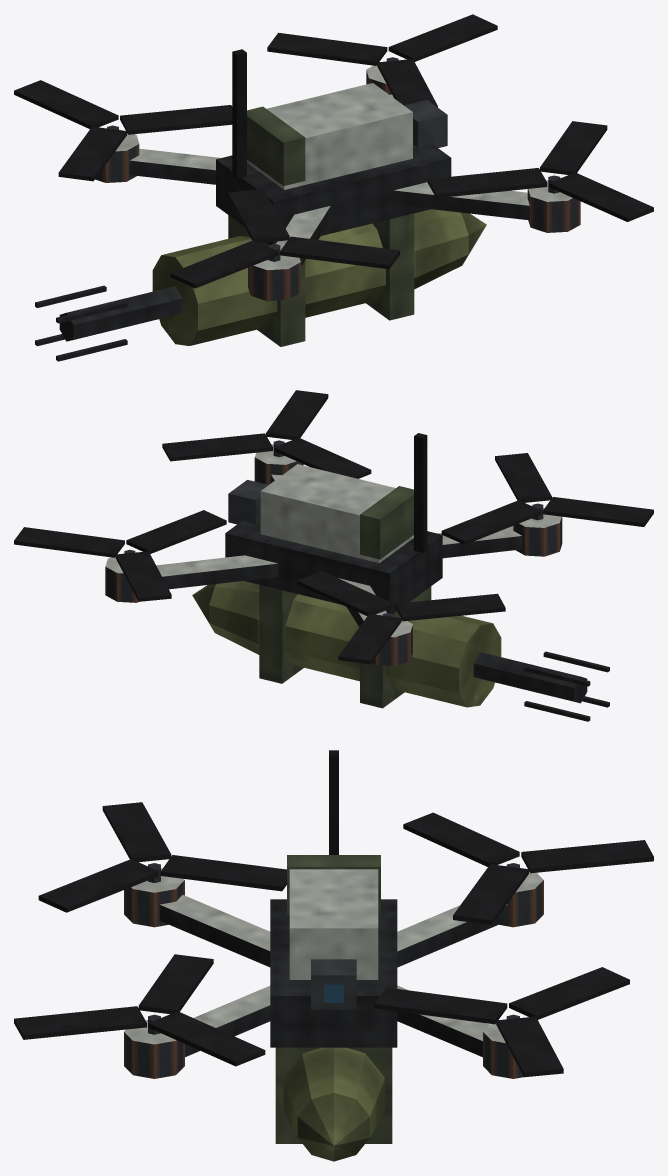
The model's file is kamikaze.obj.
3 views of the same model, one above another, from view 1: azimuth 30°, elevation 25°; view 2: azimuth 150°, elevation 25°; view 3: azimuth 270°, elevation 25° (orthographic). The views are drawn at different scales.
Bounding box in the file's own units: 0.5423 × 0.27 × 0.5043.
2 materials, 2 textured.
